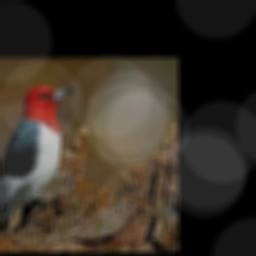Woodpecker: (0, 85, 74, 235)
